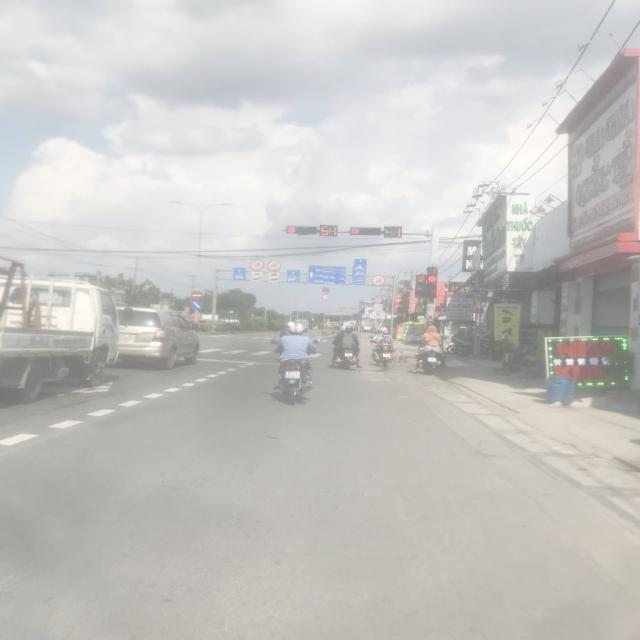102-cam-di-nguoc-chieu: (192, 292, 202, 300)
127-toc-do-toi-da-50: (372, 274, 384, 286)
127-toc-do-toi-da-60: (266, 260, 282, 272)
127-toc-do-toi-da-80: (249, 260, 265, 270)
302a-huong-phai-di-vong-chuong-ngai-vat-1: (190, 300, 202, 310)
